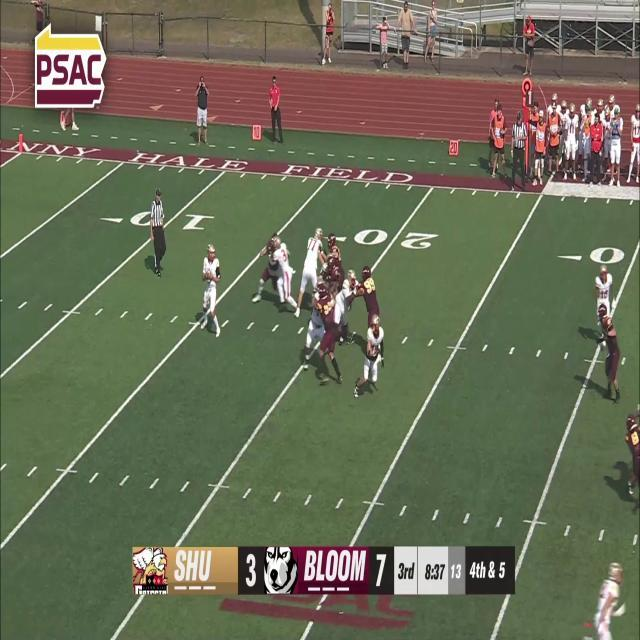football: (206, 268, 212, 284)
